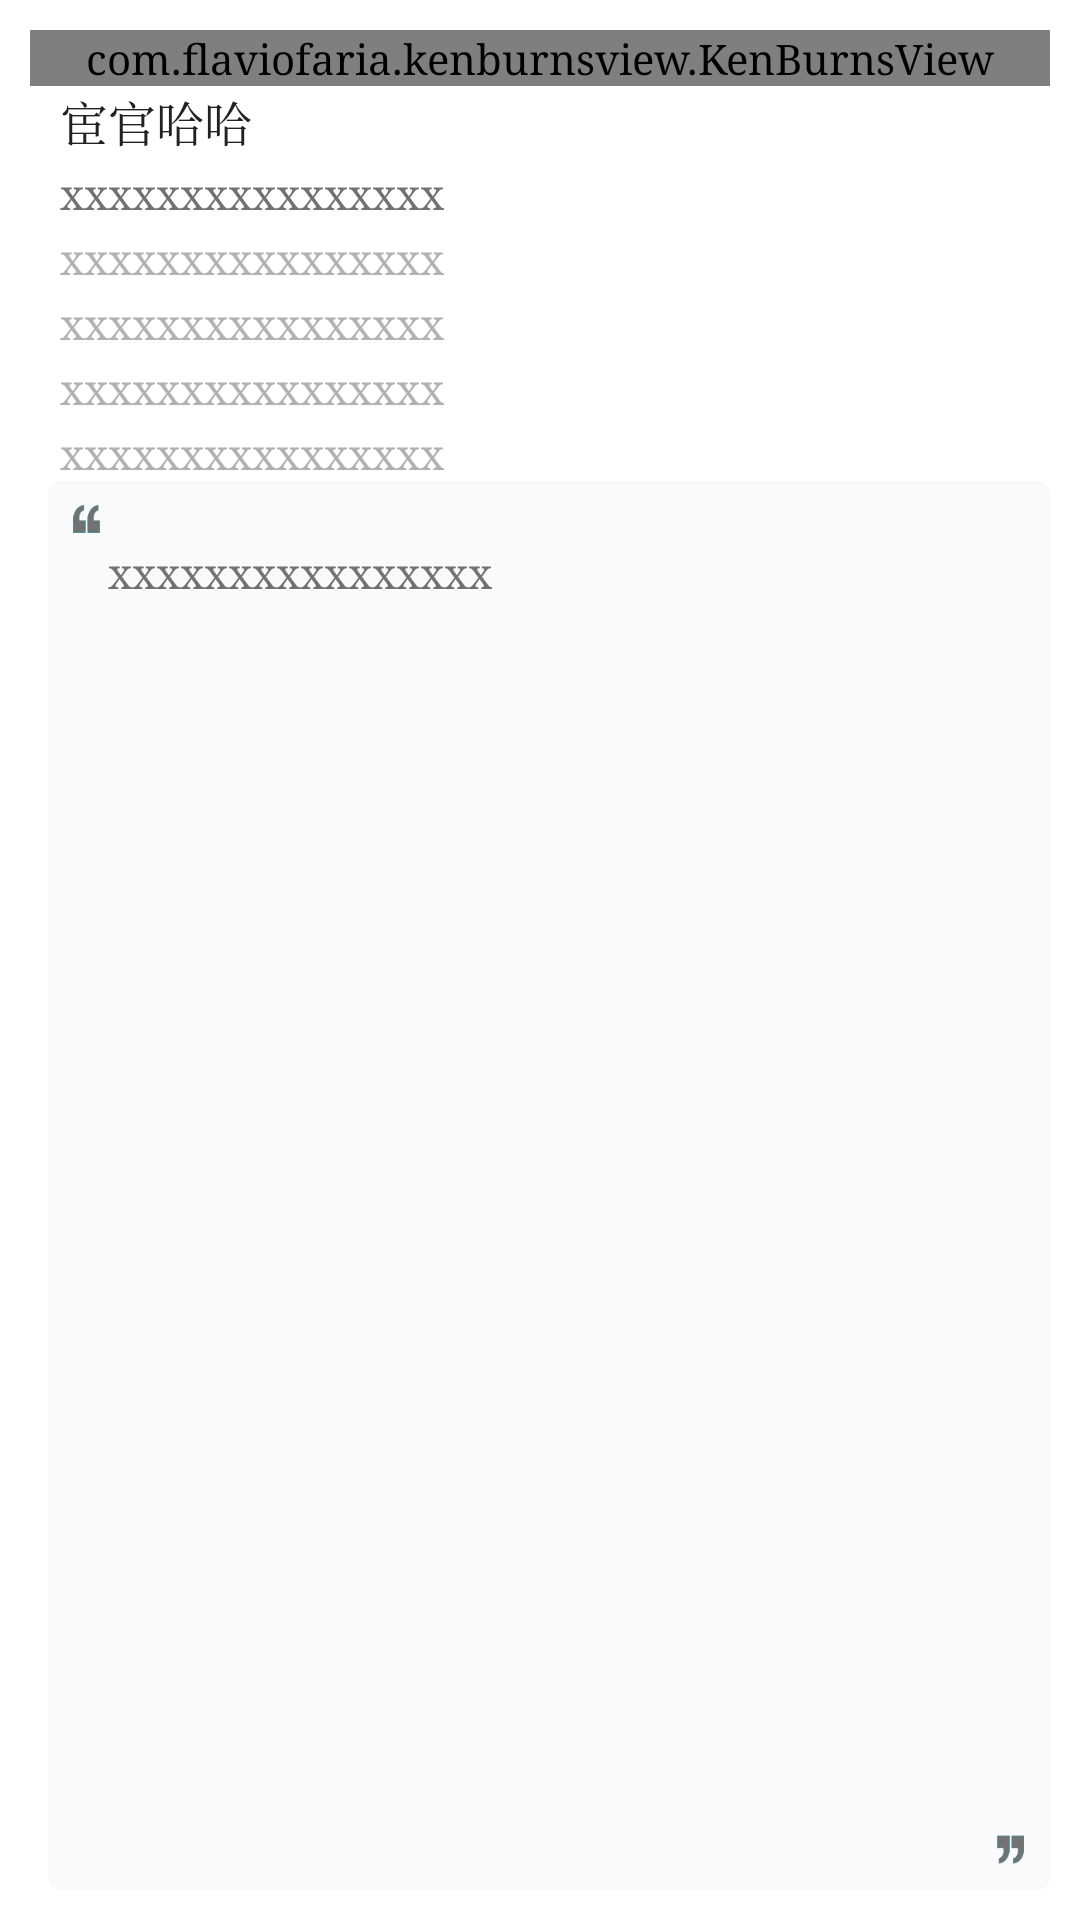

Icons on this 1080x1920 Android screen, each with its box as (left=x1, top=y1, right=x2, bottom=y2):
down quot: (left=997, top=1835, right=1024, bottom=1864)
up quot: (left=73, top=504, right=100, bottom=533)
